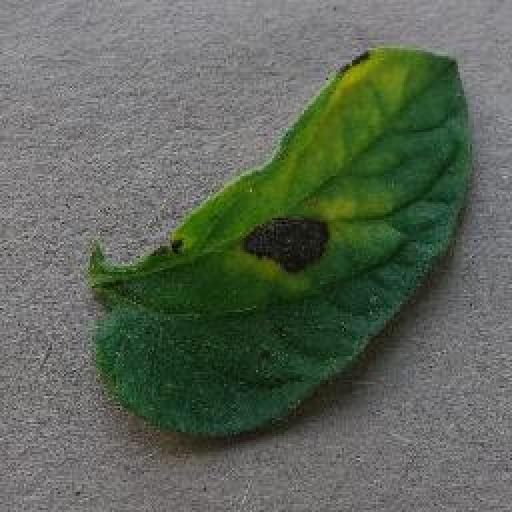Early Blight: (85, 40, 468, 443)
